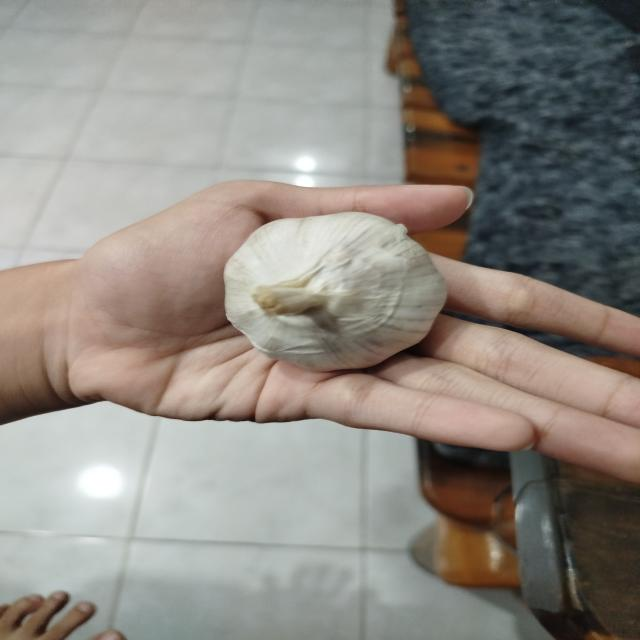garlic: (222, 210, 449, 372)
